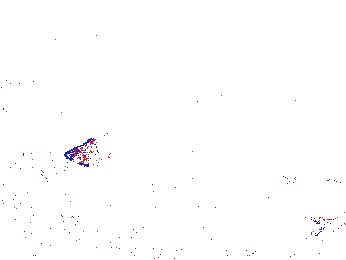X-ray fish: (23, 140, 71, 176), (65, 144, 113, 168)
redtail glassfish: (282, 168, 346, 191), (292, 204, 346, 226)
